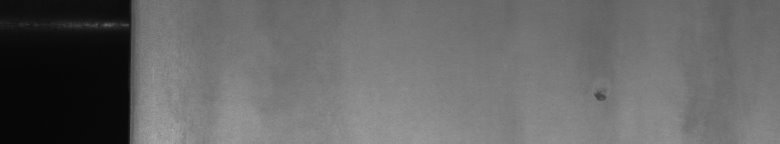fi: (592, 82, 609, 107)
